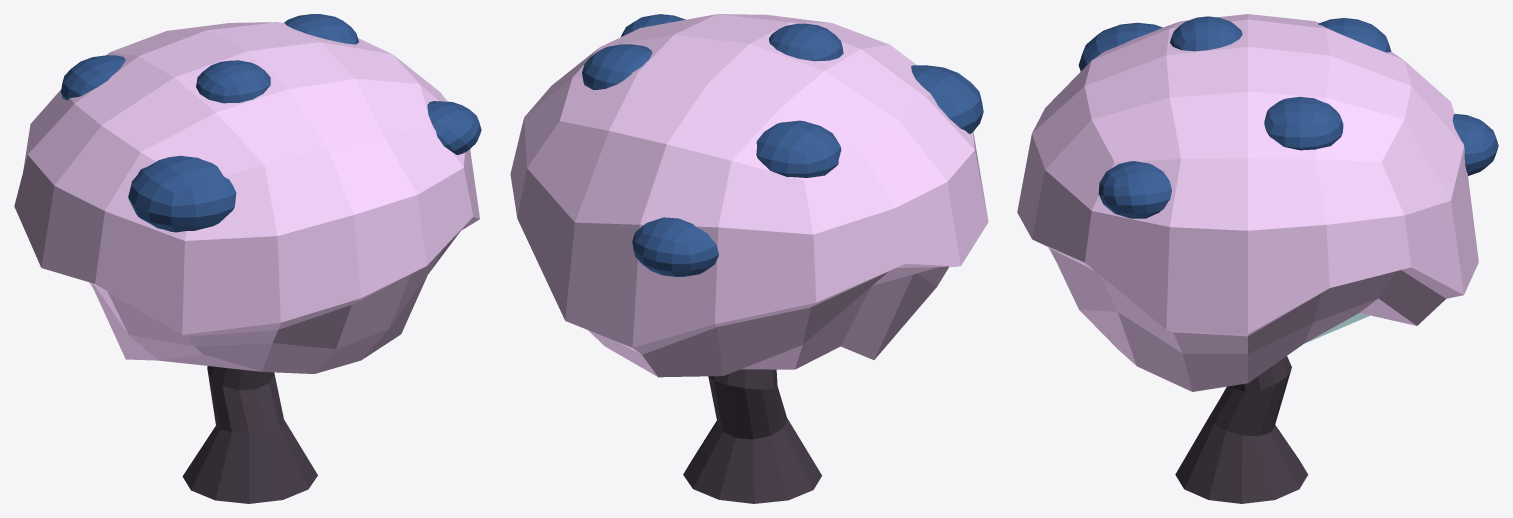
The model's file is tree 2.fbx.
3 views of the same model, side by side, from view 1: azimuth 30°, elevation 25°; view 2: azimuth 150°, elevation 25°; view 3: azimuth 270°, elevation 25° (orthographic). The views are drawn at different scales.
Parts seen in each view (by area): view 1: Roundcube.006; view 2: Roundcube.006; view 3: Roundcube.006.
Part boxes in pixels (<box>): Roundcube.006: <box>14,14,481,503</box>; Roundcube.006: <box>510,14,988,503</box>; Roundcube.006: <box>1017,14,1498,503</box>.
Bounding box in the file's own units: 700 × 700 × 700.
